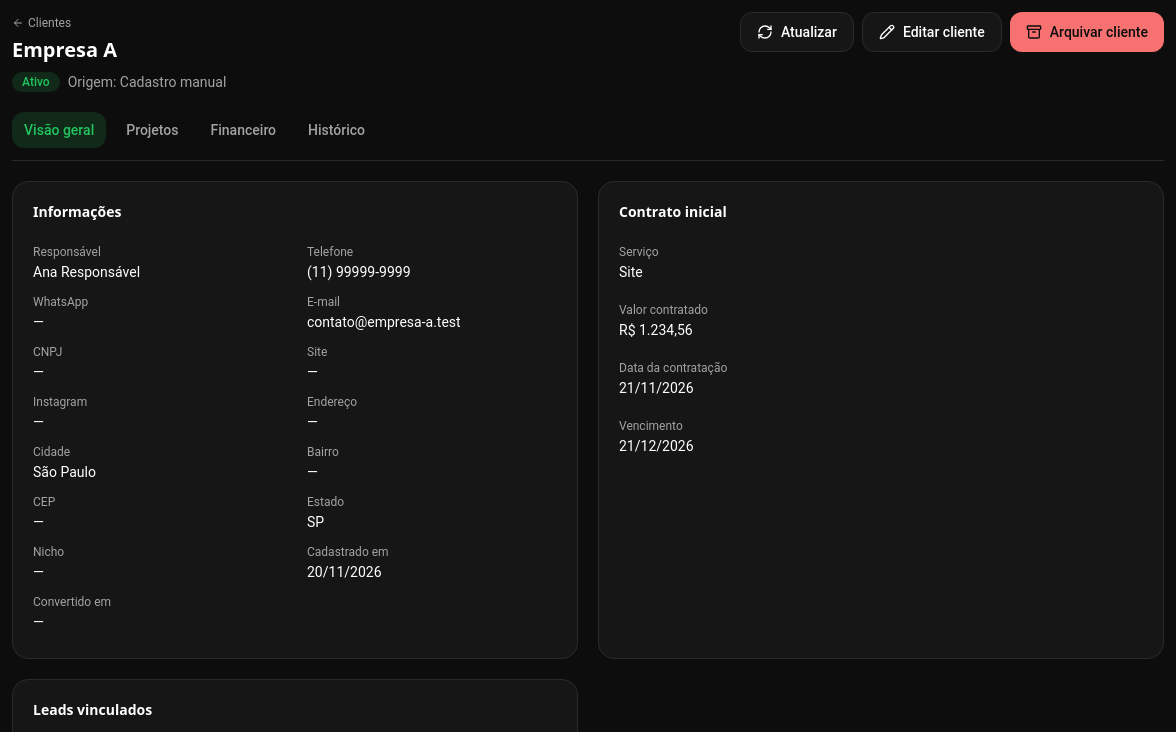
Scenario: ClientDetailPage › combina eventos do cliente e do lead na aba Histórico
Click the tab "Histórico". click: (336, 130)
box: [296,112,377,148]
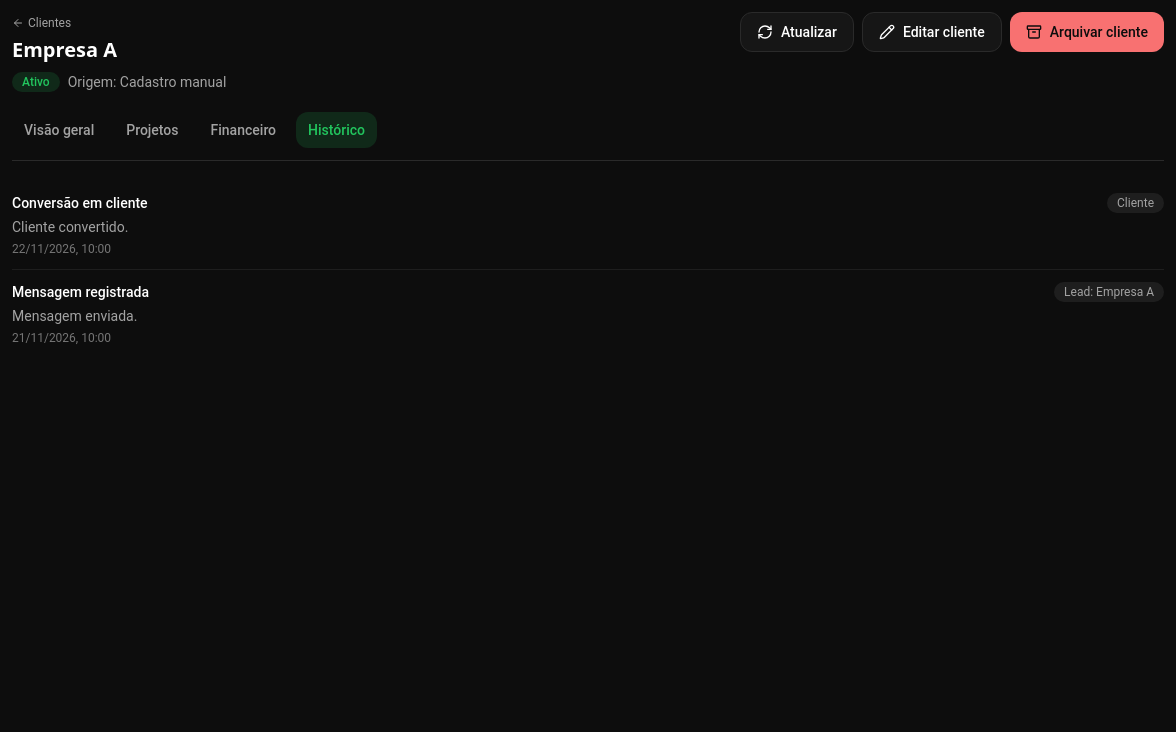
Expected: the text "Cliente convertido." is shown, [12,219,128,235]
Expected: the text "Mensagem enviada." is shown, [12,308,137,324]
Expected: the text "Lead: Empresa A" is shown, [1054,282,1164,302]
